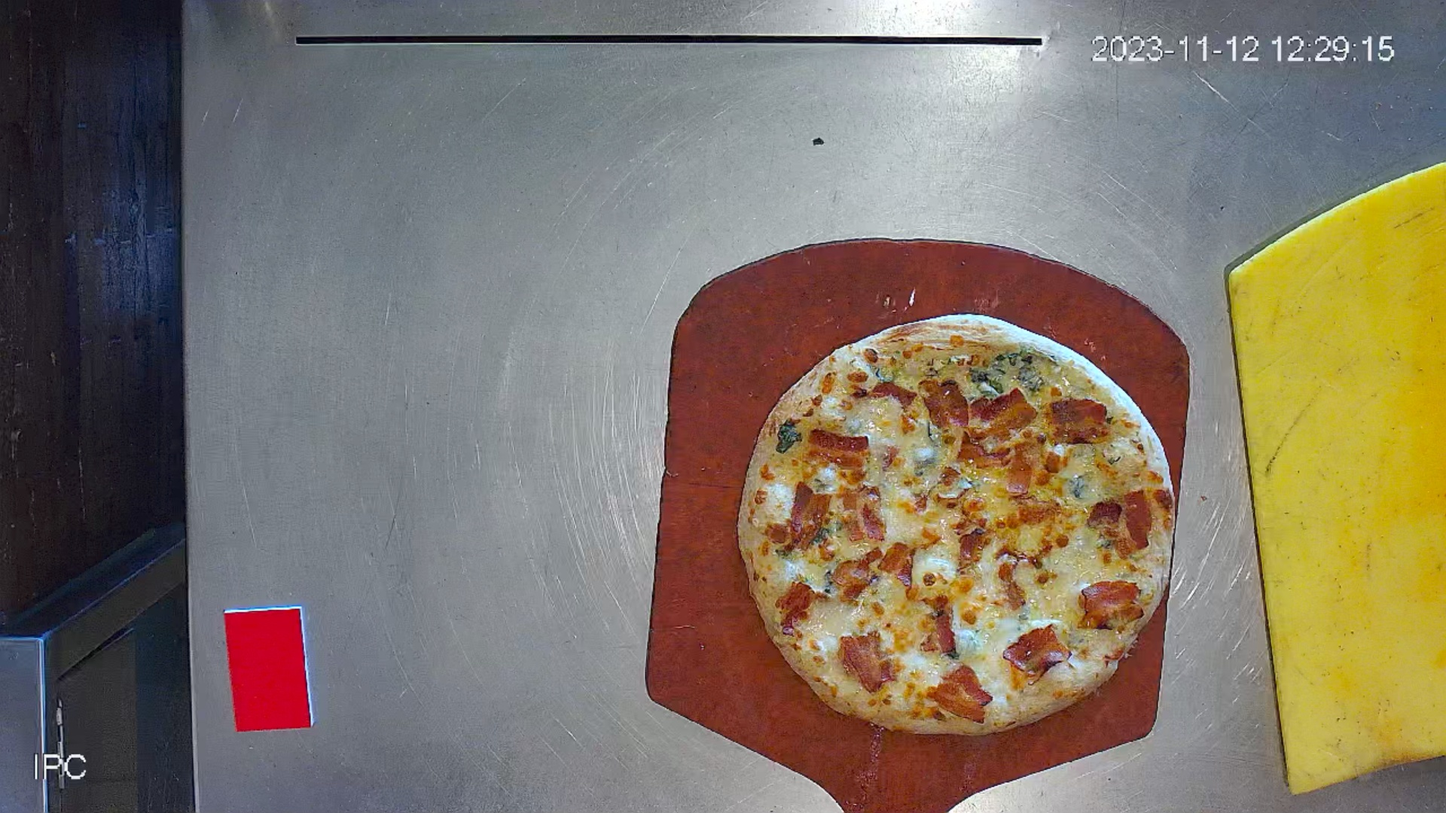pepporoni: (737, 312, 1173, 733)
